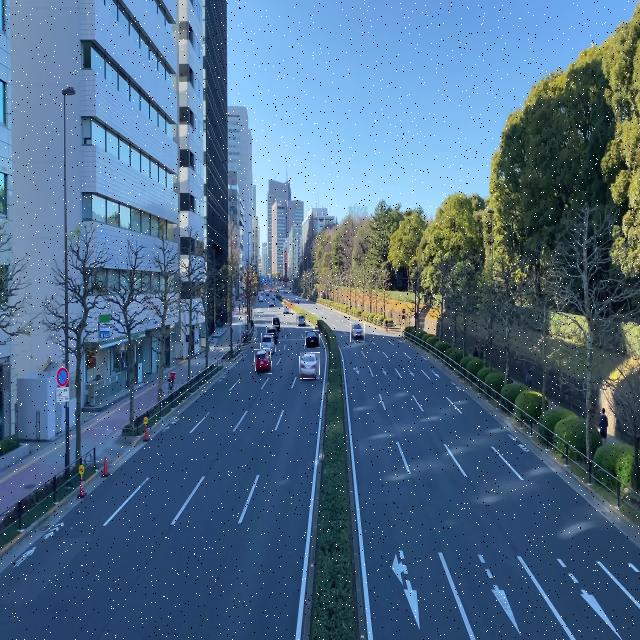Car: (300, 353, 320, 379), (254, 349, 272, 374), (351, 322, 365, 342), (261, 334, 276, 352), (306, 331, 320, 348), (266, 326, 279, 339), (296, 313, 306, 327), (273, 318, 280, 332), (284, 304, 292, 314), (268, 298, 276, 308)
